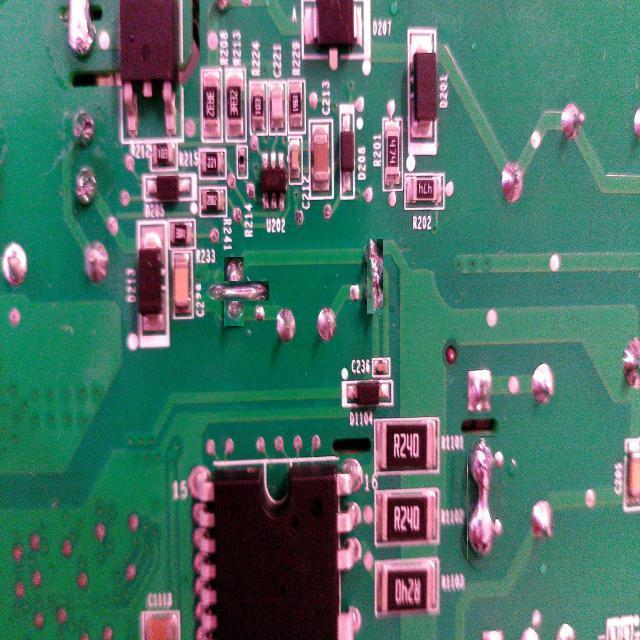Short_circuit: (467, 436, 495, 560), (212, 269, 257, 314), (366, 238, 383, 314)
